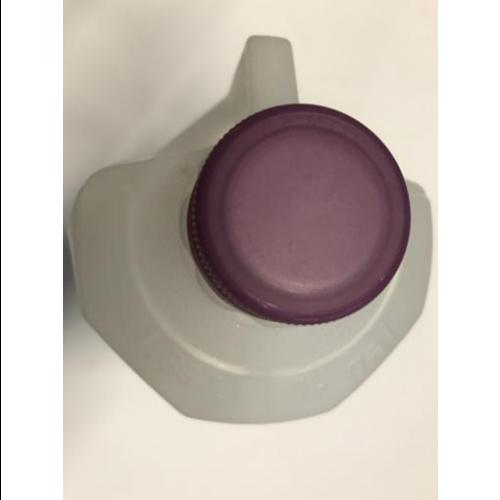plastic: (67, 35, 433, 420)
